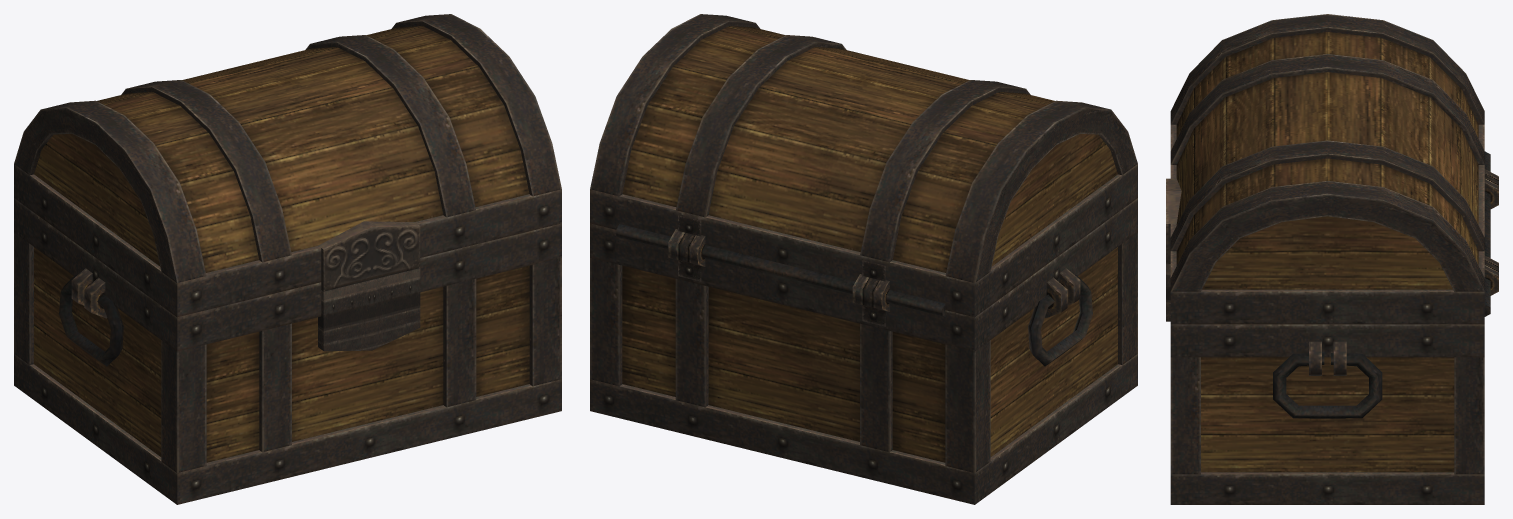
3 renders of one model, left to right at view 1: azimuth 30°, elevation 25°; view 2: azimuth 150°, elevation 25°; view 3: azimuth 270°, elevation 25°, orthographic. The views are drawn at different scales.
Visible parts, largest first — view 1: box_top_Mesh.001, box_Mesh; view 2: box_top_Mesh.001, box_Mesh; view 3: box_top_Mesh.001, box_Mesh.
Boxes of the visible parts, x1,y1,x2,y2 form: box_top_Mesh.001: (14, 14, 561, 317); box_Mesh: (14, 198, 561, 504); box_top_Mesh.001: (590, 14, 1137, 317); box_Mesh: (590, 198, 1137, 504); box_top_Mesh.001: (1166, 14, 1484, 324); box_Mesh: (1166, 151, 1498, 504).
Bounding box in the file's own units: 2.79 × 2.08 × 2.02.
Materials: 3 (3 with a texture image).
